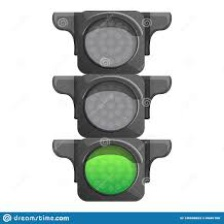semaforo: (76, 9, 145, 201)
